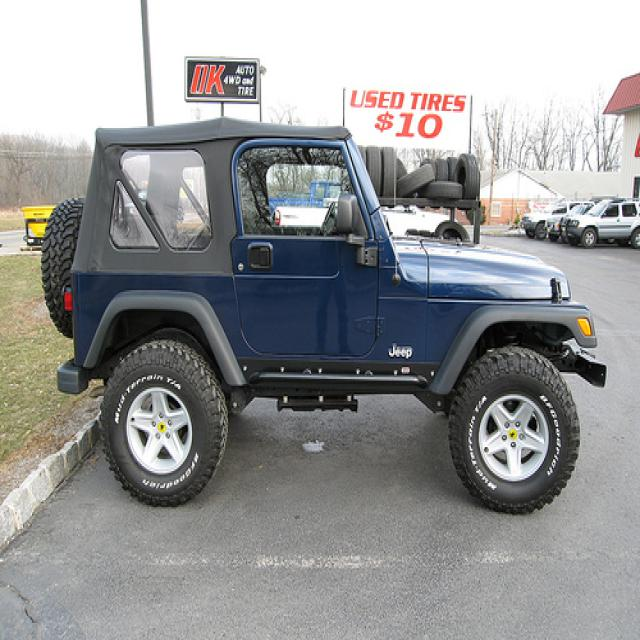car: (41, 119, 608, 515), (275, 197, 459, 238), (560, 187, 640, 248), (520, 195, 597, 240), (544, 199, 595, 236)
